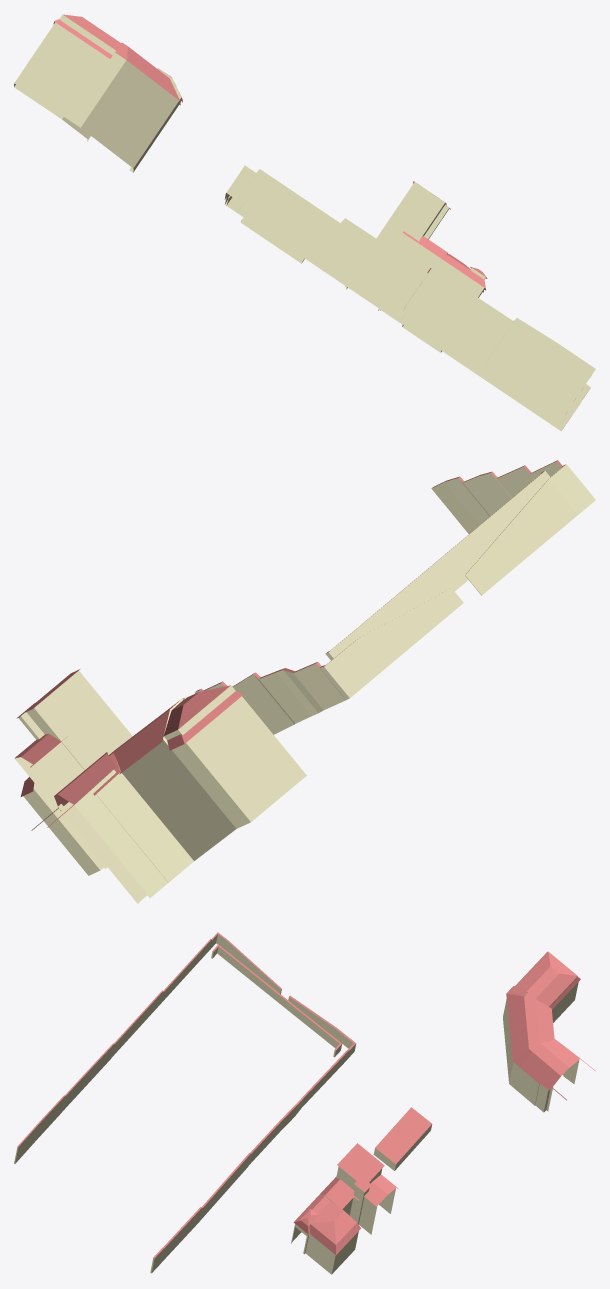
Rendered from tile_029.glb.
3 renders of one model, top to bottom at view 1: azimuth 30°, elevation 25°; view 2: azimuth 150°, elevation 25°; view 3: azimuth 270°, elevation 25°, orthographic. The views are drawn at different scales.
Visible parts, largest first — view 1: Batched_Building_ID_CFEC4811-6A22-4862-8D39-443BFA5E544D; view 2: Batched_Building_ID_CFEC4811-6A22-4862-8D39-443BFA5E544D; view 3: Batched_Building_ID_CFEC4811-6A22-4862-8D39-443BFA5E544D.
Boxes of the visible parts, <box> form: Batched_Building_ID_CFEC4811-6A22-4862-8D39-443BFA5E544D: <box>14,14,595,431</box>; Batched_Building_ID_CFEC4811-6A22-4862-8D39-443BFA5E544D: <box>14,460,595,903</box>; Batched_Building_ID_CFEC4811-6A22-4862-8D39-443BFA5E544D: <box>14,932,595,1274</box>.
Bounding box in the file's own units: 114 × 99.15 × 218.
